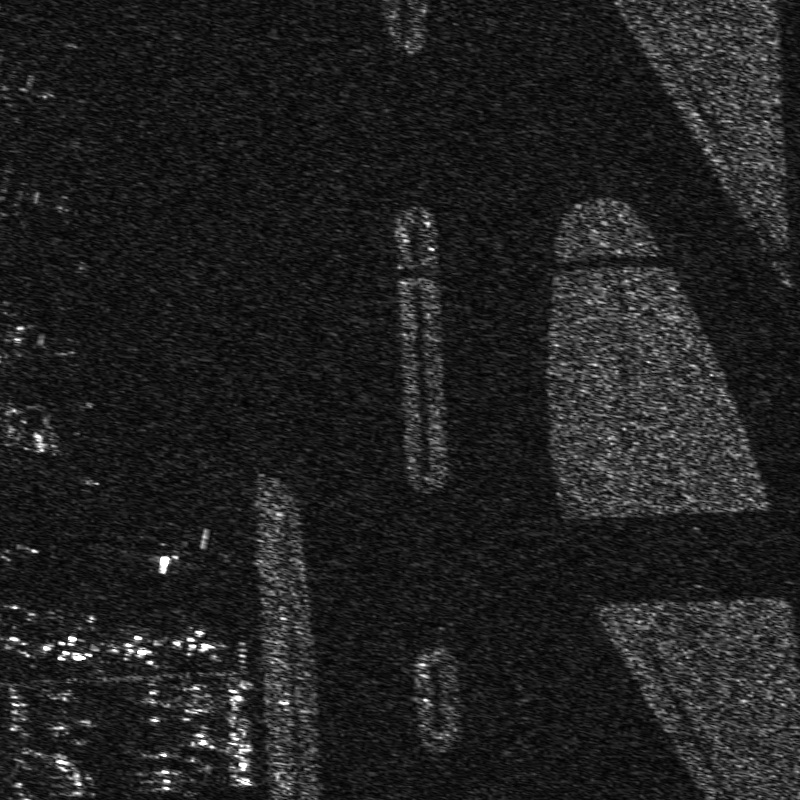ARJ21: (42, 631, 100, 664)
other: (107, 626, 163, 668), (171, 625, 228, 665)
